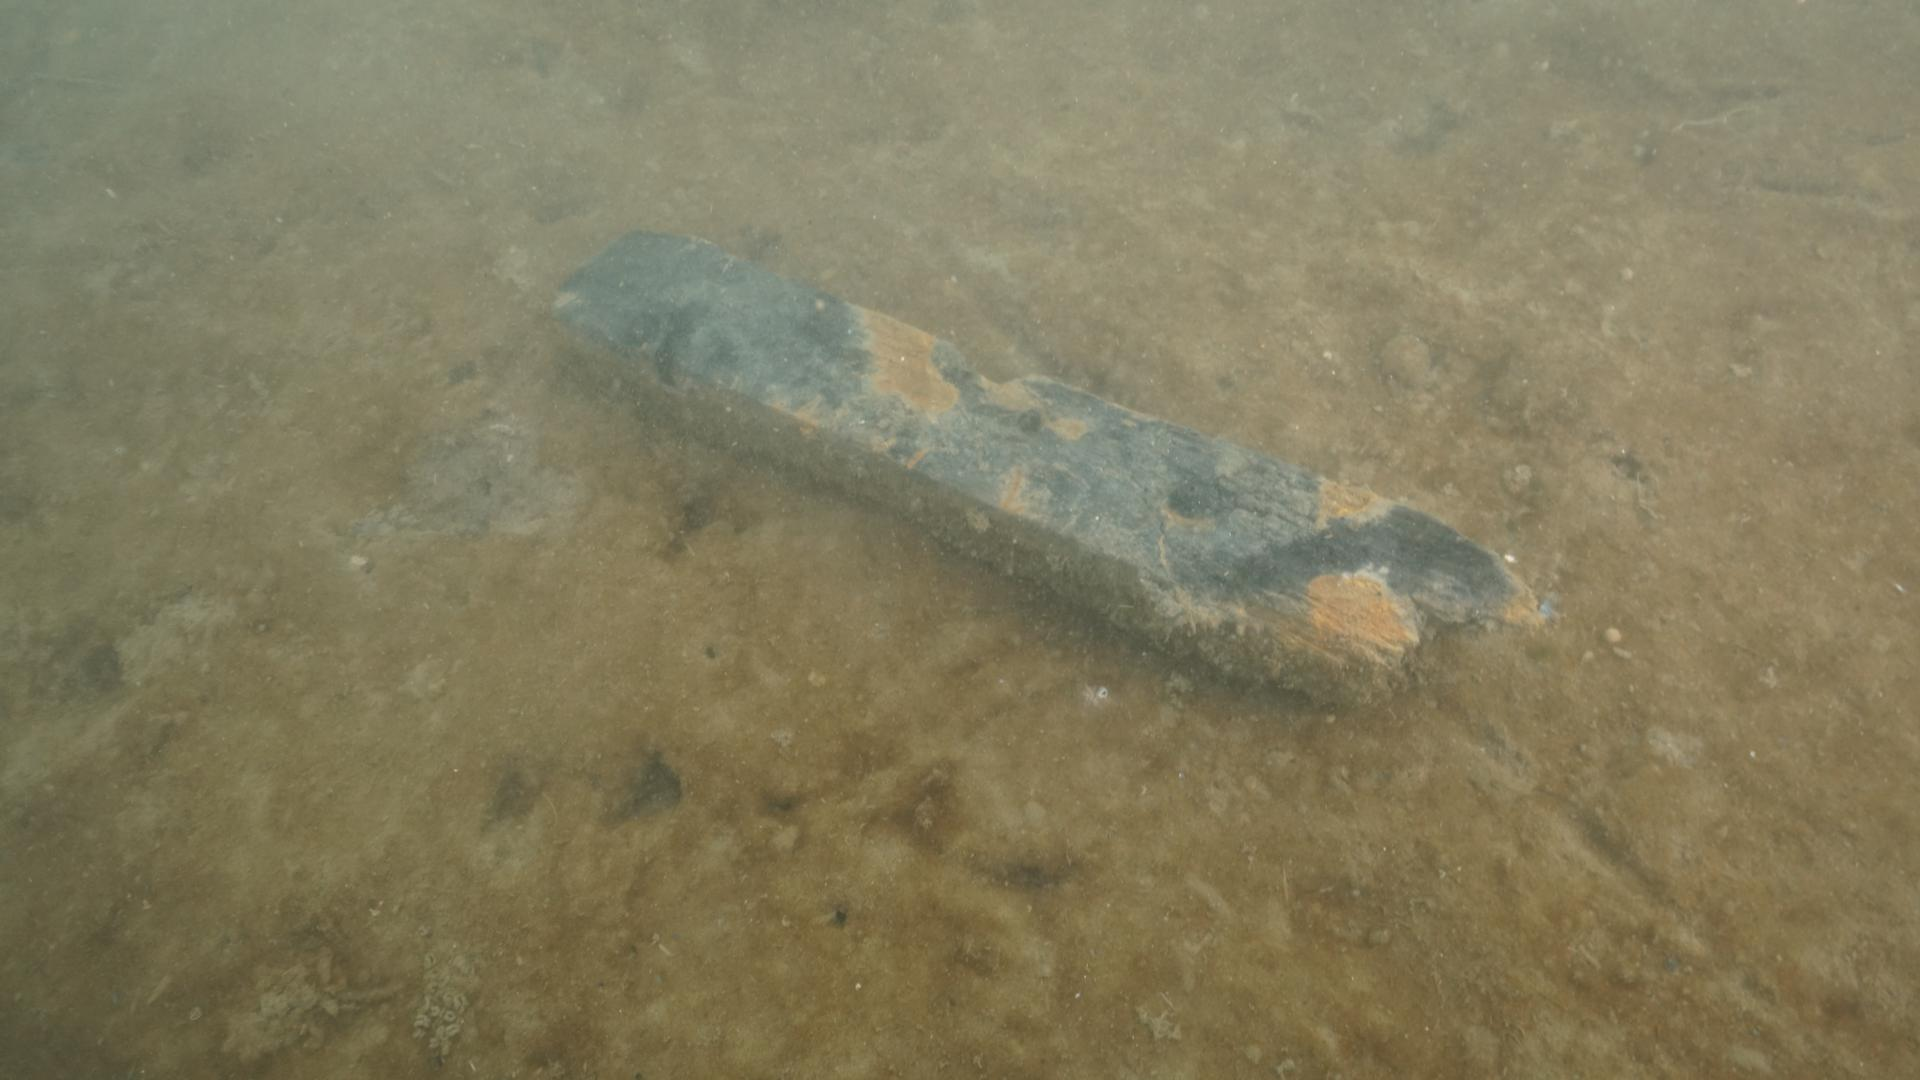wood: (542, 225, 1559, 720)
